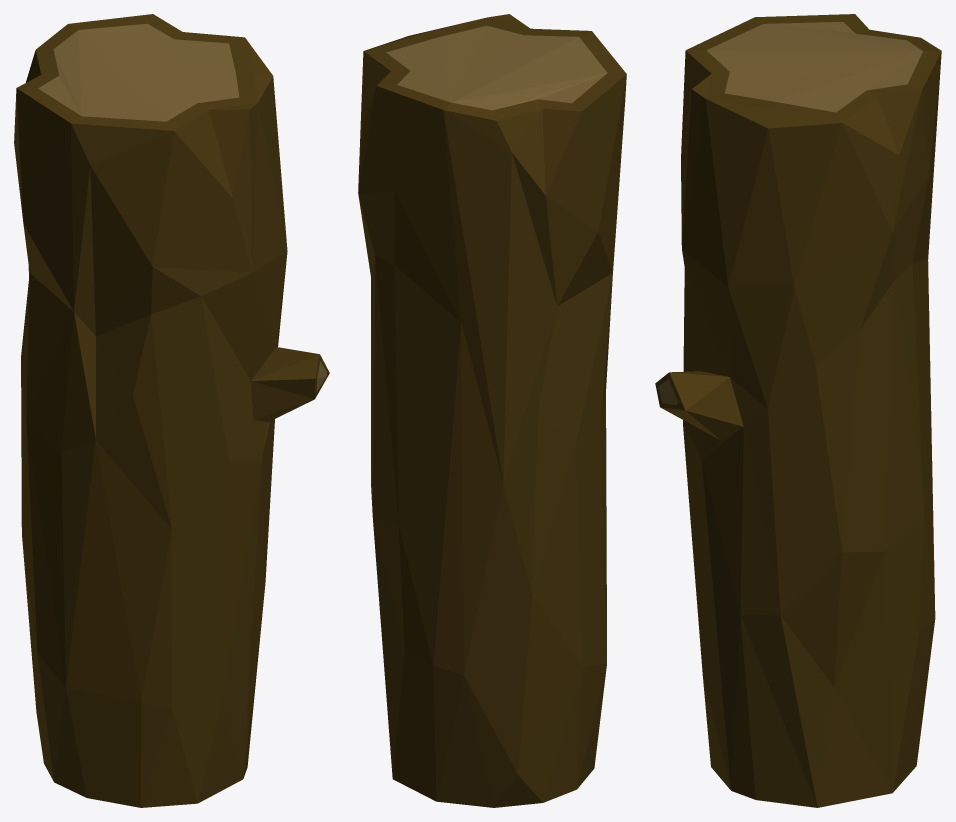
File: Log.fbx
3 renders of one model, left to right at view 1: azimuth 30°, elevation 25°; view 2: azimuth 150°, elevation 25°; view 3: azimuth 270°, elevation 25°, orthographic.
Parts seen in each view (by area): view 1: Log; view 2: Log; view 3: Log.
Part boxes in pixels (x1,y1,x2,y2): Log: (14,14,329,807); Log: (358,14,626,807); Log: (655,14,941,807).
Bounding box in the file's own units: 109 × 311 × 114.
